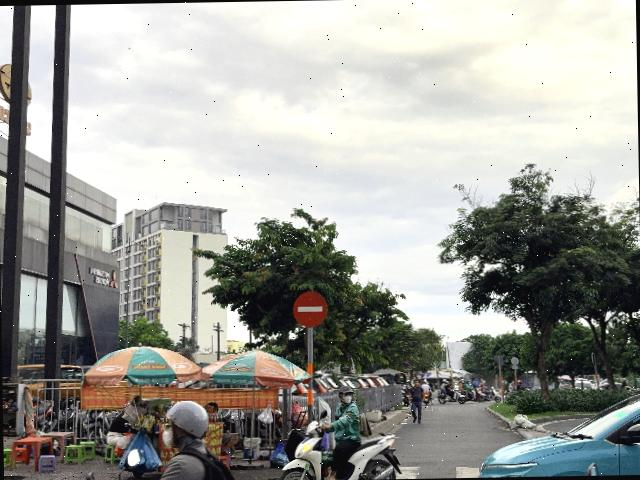cam-di-nguoc-chieu: (294, 289, 328, 327)
